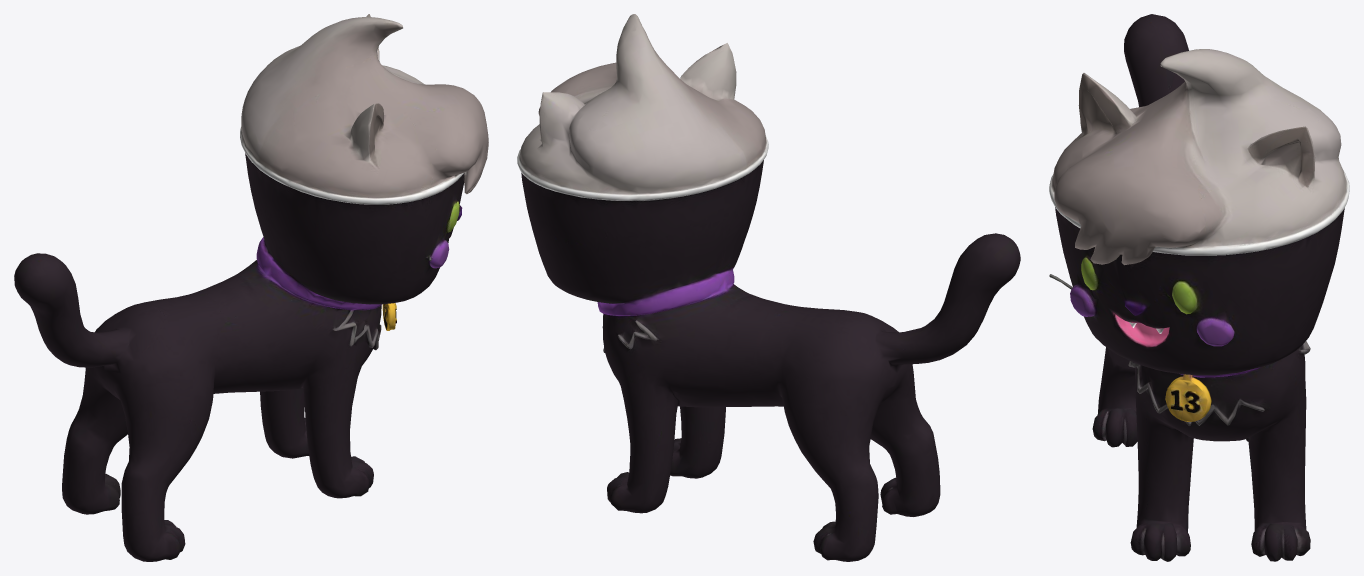
Rendered from GRIDDLE.glb.
The picture shows the model from 3 angles, left to right: view 1: azimuth 30°, elevation 25°; view 2: azimuth 150°, elevation 25°; view 3: azimuth 270°, elevation 25°; orthographic projection. The views are drawn at different scales.
Parts seen in each view (by area): view 1: tripo_node_8cea3140-59c6-4d95-9c3d-54ff4e836828; view 2: tripo_node_8cea3140-59c6-4d95-9c3d-54ff4e836828; view 3: tripo_node_8cea3140-59c6-4d95-9c3d-54ff4e836828.
Part boxes in pixels (x1=…): tripo_node_8cea3140-59c6-4d95-9c3d-54ff4e836828: x1=14, y1=14, x2=488, y2=561; tripo_node_8cea3140-59c6-4d95-9c3d-54ff4e836828: x1=517, y1=14, x2=1020, y2=561; tripo_node_8cea3140-59c6-4d95-9c3d-54ff4e836828: x1=1049, y1=14, x2=1349, y2=561.
Bounding box in the file's own units: 1.08 × 1 × 0.5165.
1 material, 1 textured.
